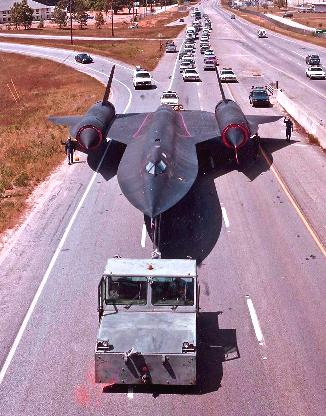Rafale: (47, 64, 283, 228)
